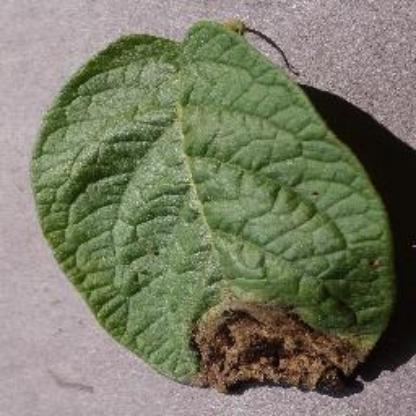Late-Blight: (28, 19, 396, 396)
